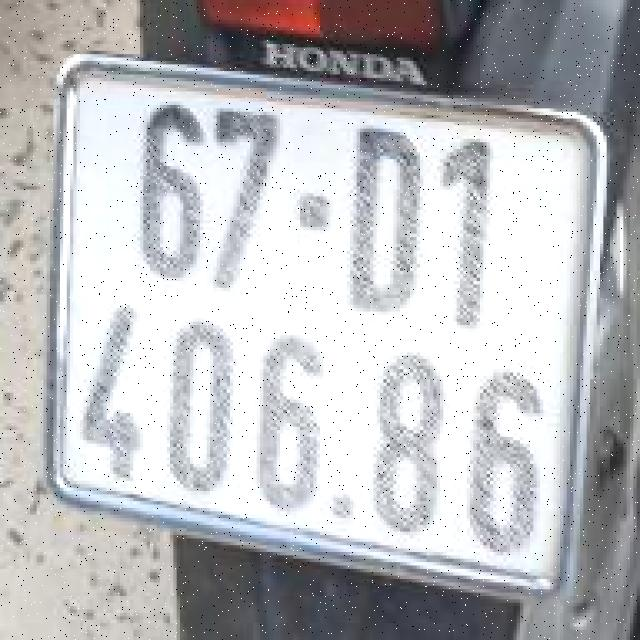0: (166, 315, 236, 498)
1: (437, 134, 500, 334)
4: (75, 300, 148, 486)
6: (467, 361, 543, 554), (256, 328, 326, 512), (140, 98, 207, 284)
7: (207, 107, 283, 293)
8: (370, 349, 447, 535)
D: (348, 119, 425, 318)
